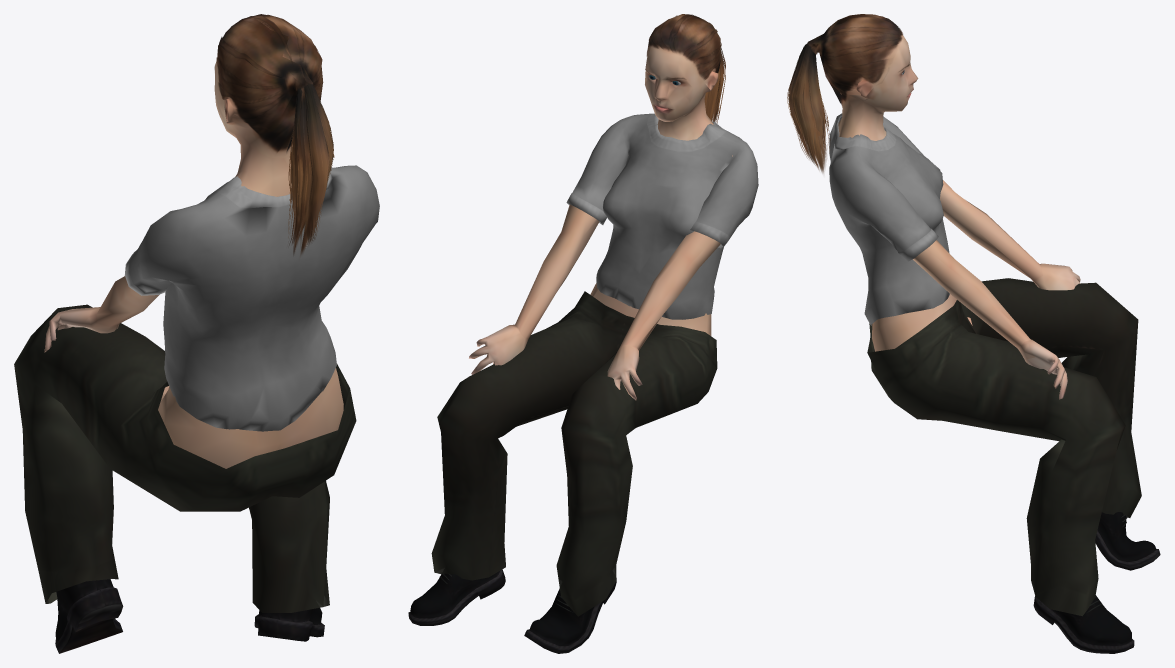
The model's file is woman_tee_sitting.glb.
3 views of the same model, side by side, from view 1: azimuth 30°, elevation 25°; view 2: azimuth 150°, elevation 25°; view 3: azimuth 270°, elevation 25° (orthographic). The views are drawn at different scales.
Visible parts, largest first — view 1: Human_atlas; view 2: Human_atlas; view 3: Human_atlas.
Part boxes in pixels (x1,y1,x2,y2): Human_atlas: (14,14,379,653); Human_atlas: (408,14,758,653); Human_atlas: (787,14,1160,653).
Bounding box in the file's own units: 0.566 × 1.3 × 0.7804.
Materials: 1 (1 with a texture image).
